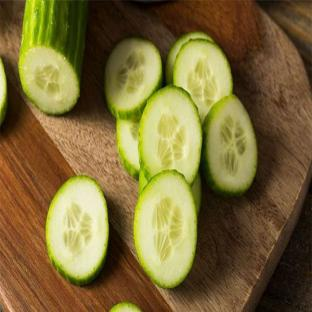Cucumber: (134, 171, 197, 287), (46, 176, 108, 285), (139, 86, 202, 184), (202, 95, 257, 196), (174, 40, 232, 123), (105, 38, 162, 119), (165, 32, 213, 84), (117, 119, 139, 180), (0, 58, 7, 125), (192, 173, 201, 215), (110, 302, 141, 311), (139, 170, 148, 195)
